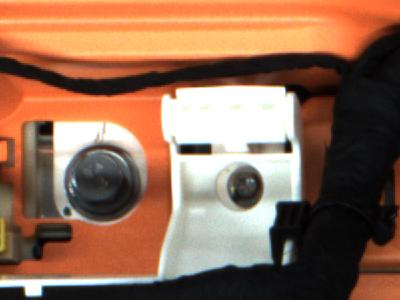nut_b: (61, 144, 144, 224)
